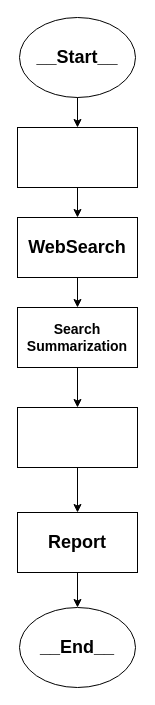
Image size: 155x705. Some labels were removed from this diagram. The centre of each missing label's shape, as x and y in pixels:
analysis: (77,437)
Keywords Search: (77,157)
